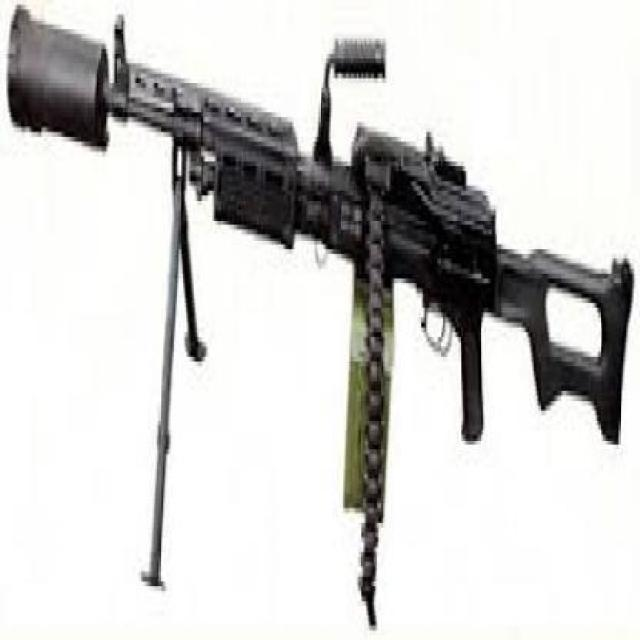weapon: (109, 16, 634, 627)
